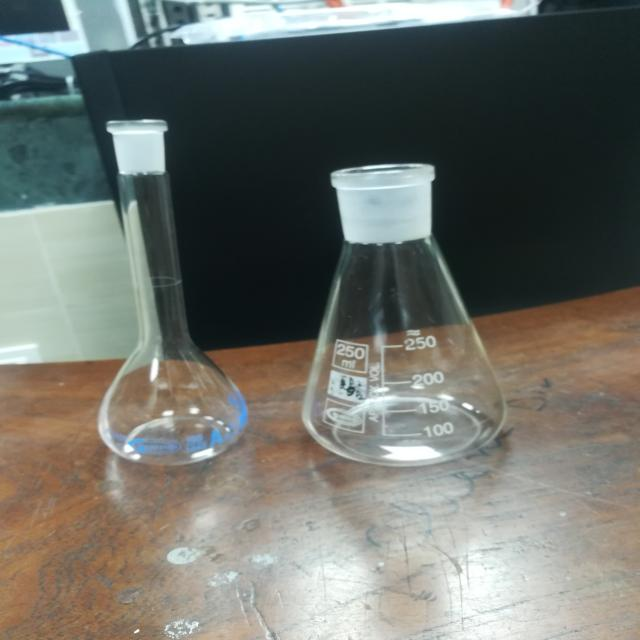Conical_Flask: (291, 144, 538, 488)
Volumetric_Flask: (32, 99, 260, 486)
